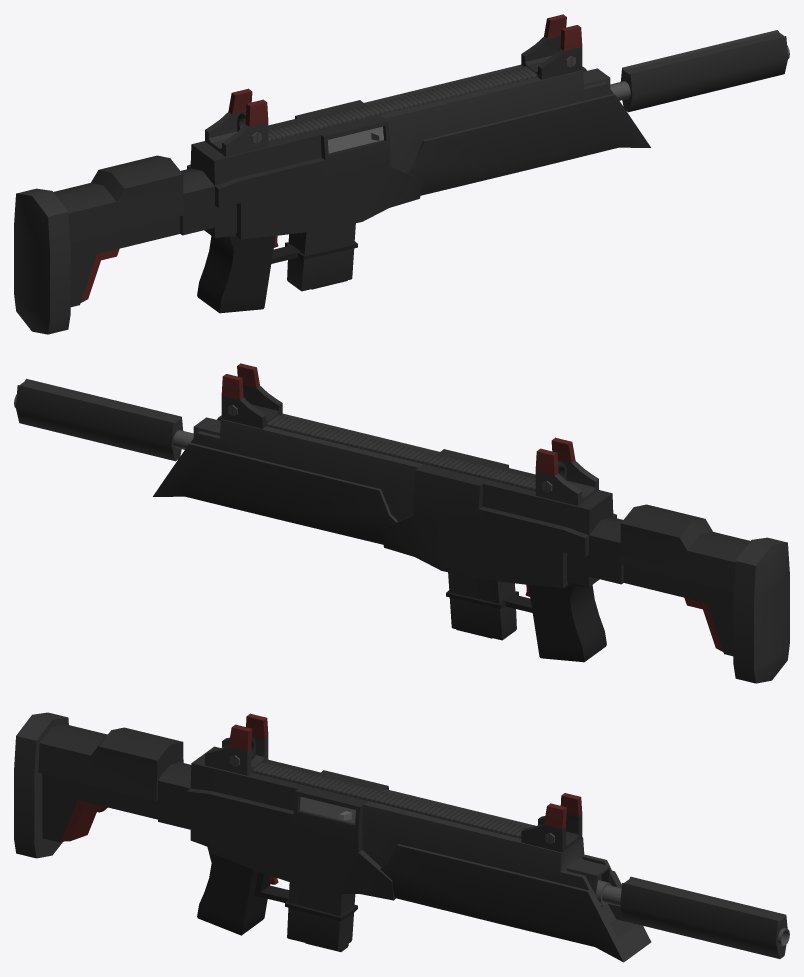
Rendered from Havoc Suppressed Rifle.fbx.
The picture shows the model from 3 angles, top to bottom: view 1: azimuth 30°, elevation 25°; view 2: azimuth 150°, elevation 25°; view 3: azimuth 330°, elevation 25°; orthographic projection.
Parts seen in each view (by area): view 1: The Gunner Is Unconscious, Suppresor, Back Sight, Reflex Sight; view 2: The Gunner Is Unconscious, Suppresor, Back Sight, Reflex Sight; view 3: The Gunner Is Unconscious, Suppresor, Back Sight, Reflex Sight, Trigger.
Boxes of the visible parts, x1=… form: The Gunner Is Unconscious: x1=14, y1=64, x2=650, y2=334; Suppresor: x1=620, y1=30, x2=789, y2=112; Back Sight: x1=205, y1=88, x2=268, y2=156; Reflex Sight: x1=521, y1=14, x2=582, y2=79; The Gunner Is Unconscious: x1=153, y1=413, x2=789, y2=683; Suppresor: x1=14, y1=378, x2=183, y2=461; Back Sight: x1=535, y1=437, x2=598, y2=505; Reflex Sight: x1=221, y1=363, x2=282, y2=428; The Gunner Is Unconscious: x1=14, y1=712, x2=651, y2=962; Suppresor: x1=620, y1=876, x2=789, y2=958; Back Sight: x1=205, y1=713, x2=268, y2=775; Reflex Sight: x1=521, y1=793, x2=582, y2=852; Trigger: x1=254, y1=871, x2=289, y2=902.
Bounding box in the file's own units: 2331 × 603 × 205.
